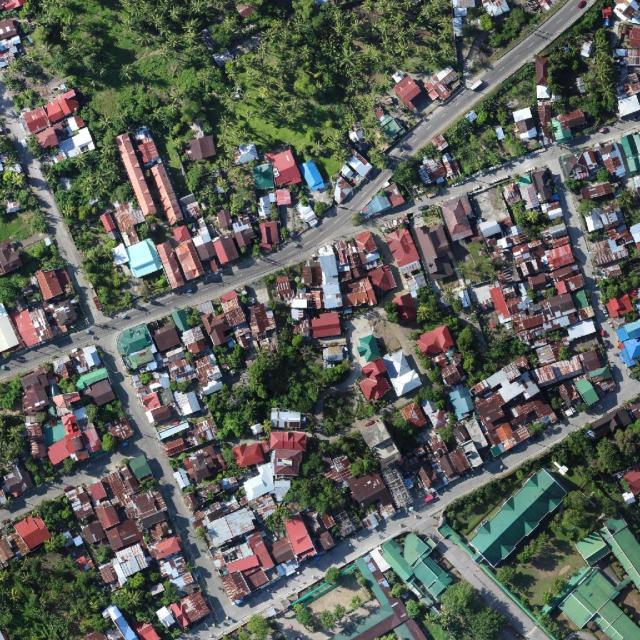building: (4, 201, 20, 214)
greenland: (438, 403, 640, 609), (195, 312, 354, 467), (285, 418, 388, 530), (108, 569, 170, 632), (283, 469, 350, 519), (332, 426, 382, 483), (504, 194, 553, 243), (82, 389, 130, 436), (382, 405, 426, 455), (30, 494, 78, 539), (472, 324, 530, 360), (594, 258, 640, 302), (452, 324, 488, 375), (26, 237, 66, 279), (0, 208, 49, 242), (0, 416, 28, 474), (21, 449, 60, 490), (322, 393, 355, 437), (415, 379, 453, 412), (612, 184, 640, 228), (295, 450, 328, 483), (457, 258, 495, 285), (470, 356, 500, 390), (212, 345, 248, 371), (418, 286, 444, 322), (436, 420, 465, 452), (537, 611, 568, 640), (40, 528, 70, 557), (290, 600, 317, 631), (220, 442, 240, 478), (0, 379, 22, 410), (401, 596, 426, 621), (159, 579, 181, 606), (56, 454, 80, 478), (574, 195, 598, 218), (0, 277, 19, 305), (561, 177, 586, 196), (183, 305, 203, 328), (324, 565, 344, 586), (329, 602, 349, 622), (345, 593, 365, 612), (382, 568, 401, 587), (57, 376, 76, 395), (442, 315, 462, 333), (390, 581, 408, 599), (319, 610, 335, 629), (528, 422, 548, 437), (427, 367, 444, 384), (550, 576, 566, 594), (101, 432, 116, 451), (548, 395, 564, 411), (518, 594, 534, 609), (596, 167, 611, 182), (34, 411, 49, 424), (419, 357, 432, 371), (541, 591, 554, 604), (375, 632, 399, 639), (408, 329, 422, 341), (148, 571, 161, 583), (559, 346, 571, 359), (477, 247, 489, 259)
